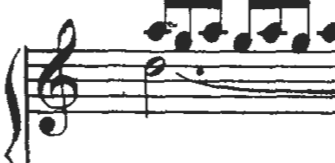treble_clef: (31, 15, 91, 146)
